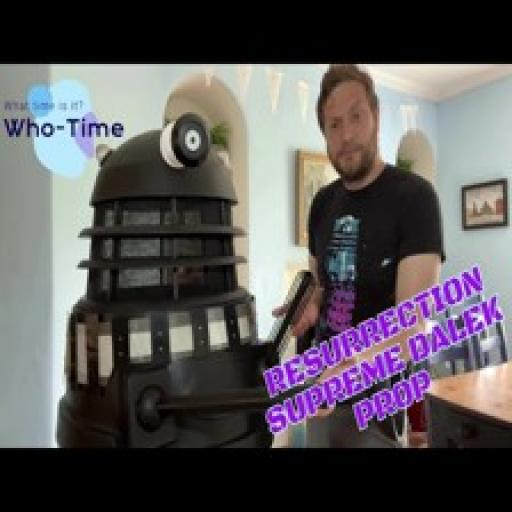dalek: (51, 112, 316, 450)
